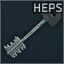HEP station storage room key: (0, 0, 64, 64)
